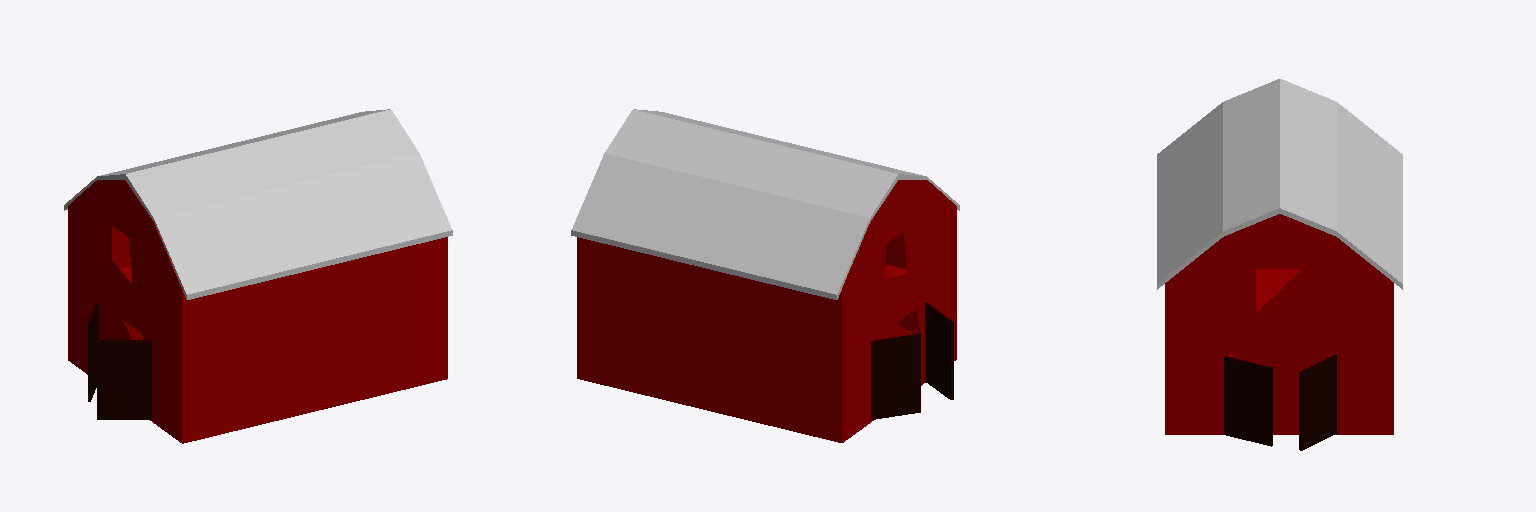
The model's file is ferme.obj.
3 renders of one model, left to right at view 1: azimuth 30°, elevation 25°; view 2: azimuth 150°, elevation 25°; view 3: azimuth 270°, elevation 25°, orthographic.
Parts seen in each view (by area): view 1: Cube, Cube.005_Cube.009, Cube.004_Cube.008, Cube.003_Cube.007; view 2: Cube, Cube.005_Cube.009, Cube.003_Cube.007, Cube.004_Cube.008; view 3: Cube, Cube.005_Cube.009, Cube.001_Cube.005, Cube.002_Cube.006.
Part boxes in pixels (x1,y1,x2,y2): Cube: (68,180,447,443); Cube.005_Cube.009: (64,109,452,299); Cube.004_Cube.008: (97,340,151,419); Cube.003_Cube.007: (88,302,98,401); Cube: (577,180,956,442); Cube.005_Cube.009: (571,109,959,299); Cube.003_Cube.007: (871,333,920,419); Cube.004_Cube.008: (925,302,953,399); Cube: (1165,214,1393,434); Cube.005_Cube.009: (1157,79,1402,289); Cube.001_Cube.005: (1224,356,1272,446); Cube.002_Cube.006: (1299,355,1336,450).
Size of the model in its own units: 12.96 by 8.19 by 8.